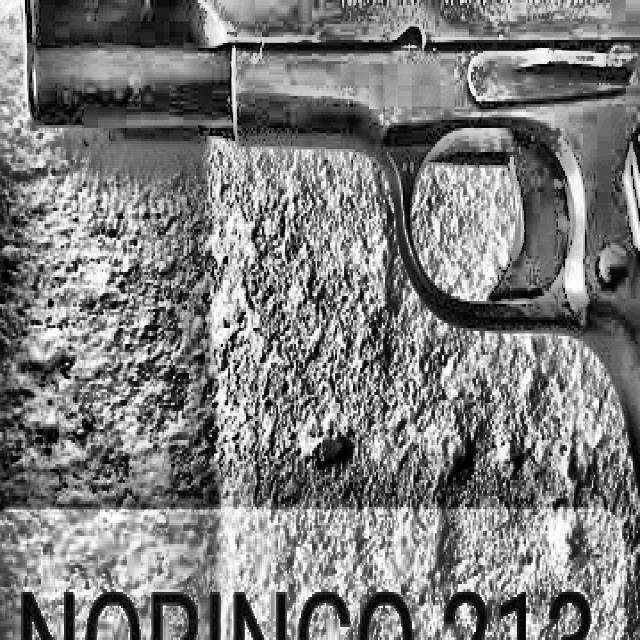Norinco: (16, 0, 640, 640)
